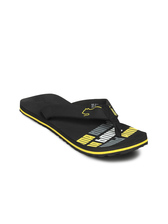shoes: (17, 90, 153, 160)
